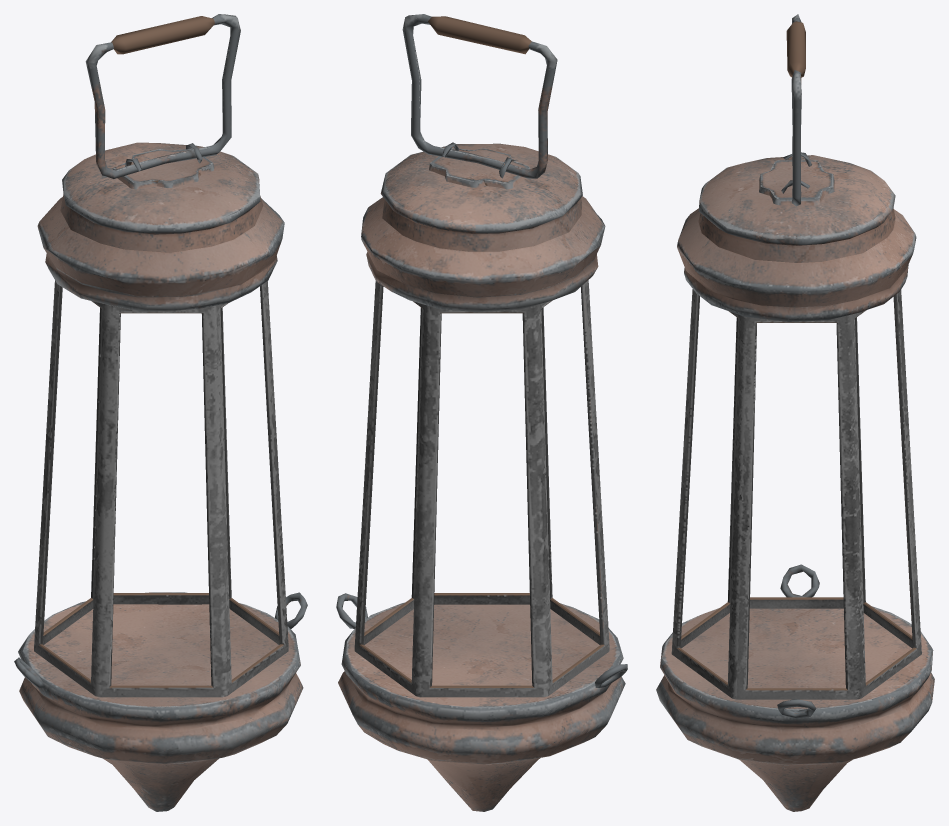
The model's file is SM_Lantern_Hanging.fbx.
The picture shows the model from 3 angles, left to right: view 1: azimuth 30°, elevation 25°; view 2: azimuth 150°, elevation 25°; view 3: azimuth 270°, elevation 25°; orthographic projection. The views are drawn at different scales.
Visible parts, largest first — view 1: SM_Lantern_Hanging_LOD0; view 2: SM_Lantern_Hanging_LOD0; view 3: SM_Lantern_Hanging_LOD0.
Boxes of the visible parts, x1,y1,x2,y2 form: SM_Lantern_Hanging_LOD0: (14,14,307,811); SM_Lantern_Hanging_LOD0: (336,14,627,811); SM_Lantern_Hanging_LOD0: (656,14,934,811).
Bounding box in the file's own units: 20.43 × 17.55 × 53.41.
